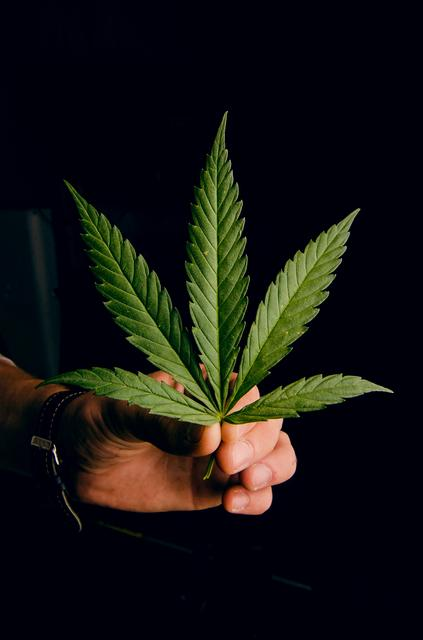Marijuana Bud: (29, 111, 397, 453)
